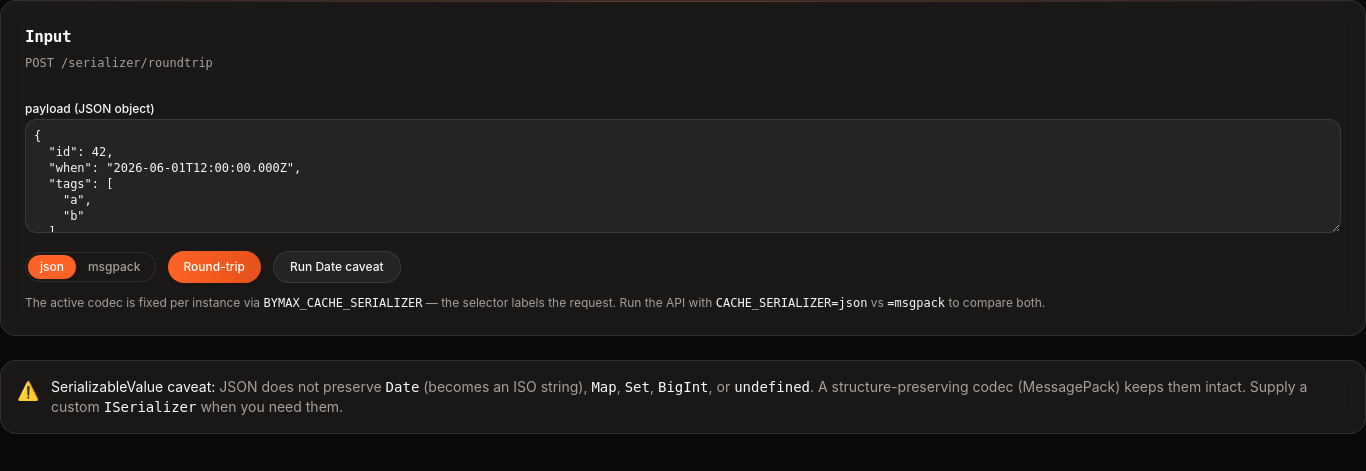
it: SerializerView › shows a JSON error when the payload is not valid JSON
Replace the text in the text box labelled "payload (JSON object)" with "not json". click: {"x": 683, "y": 176}
box: [25,119,1341,233]
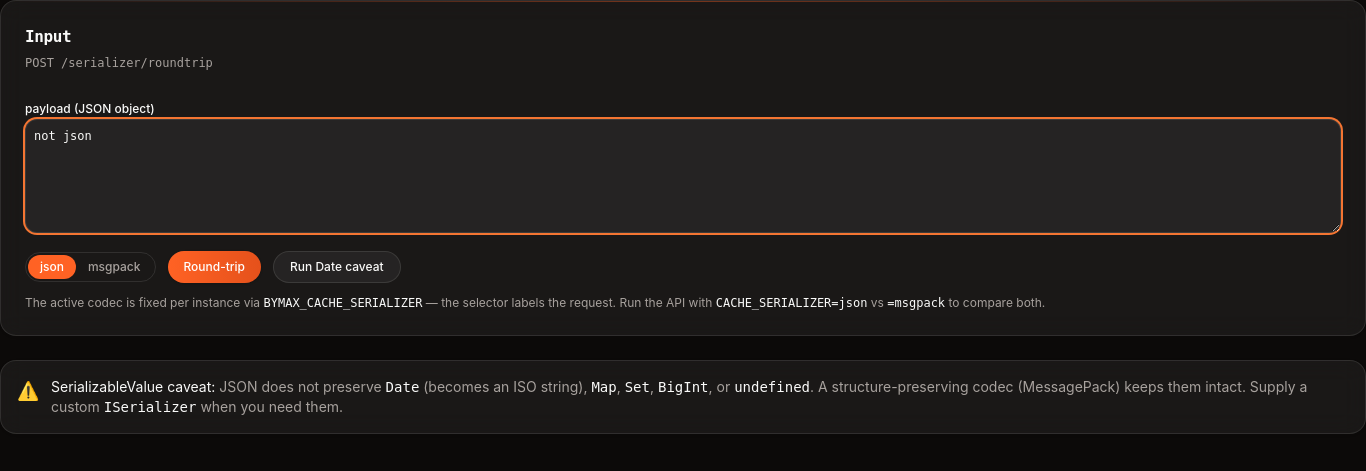
Click the button "Round-trip". click: {"x": 214, "y": 267}
box: [168,251,261,283]
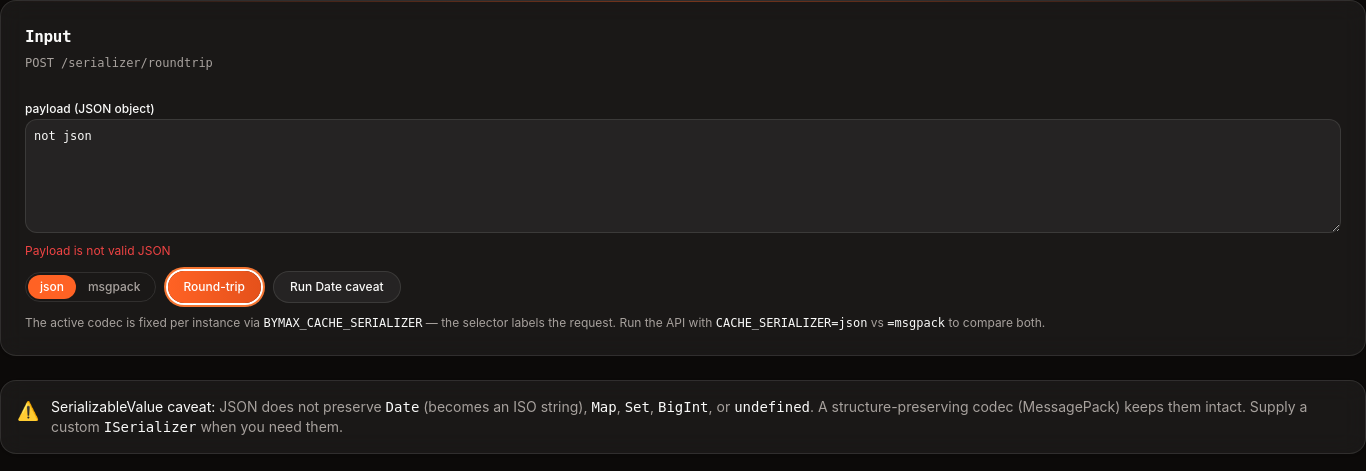
Expected: the text "Payload is not valid JSON" is shown, [25,243,171,258]
